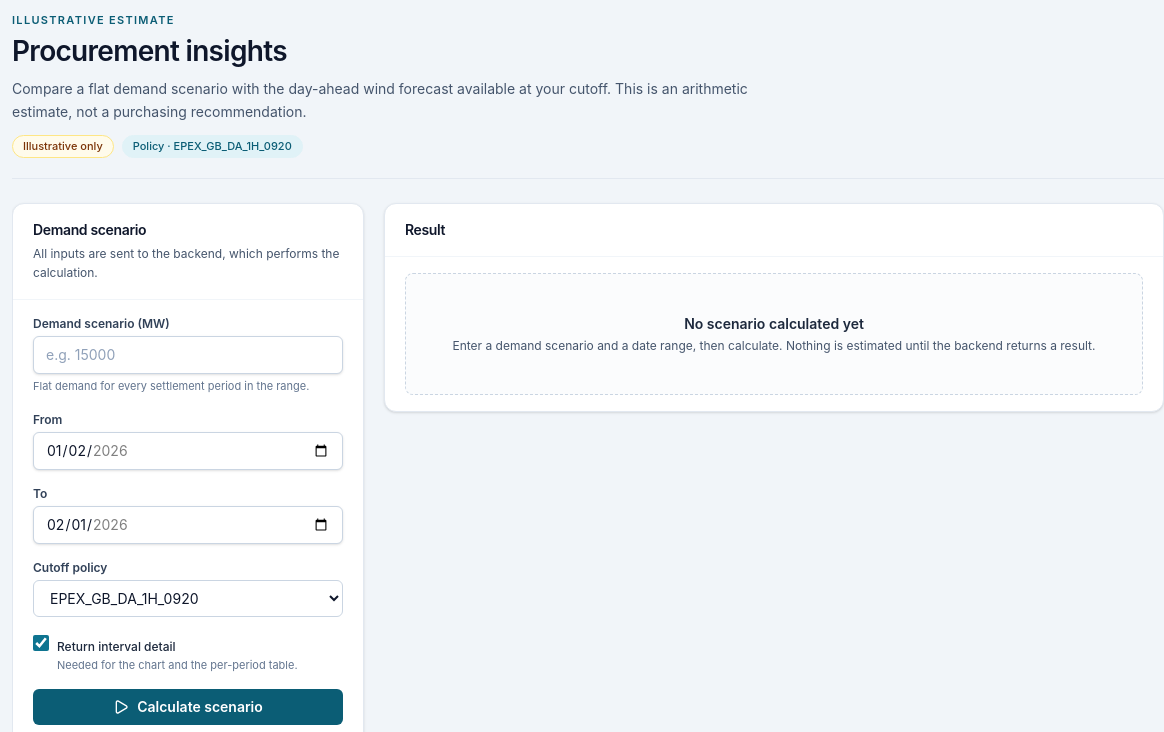
Scenario: ProcurementInsights › surfaces a backend error
Type "15000" into the number field labelled "Demand scenario (MW)" at (188, 355), box 33,336 -> 343,374
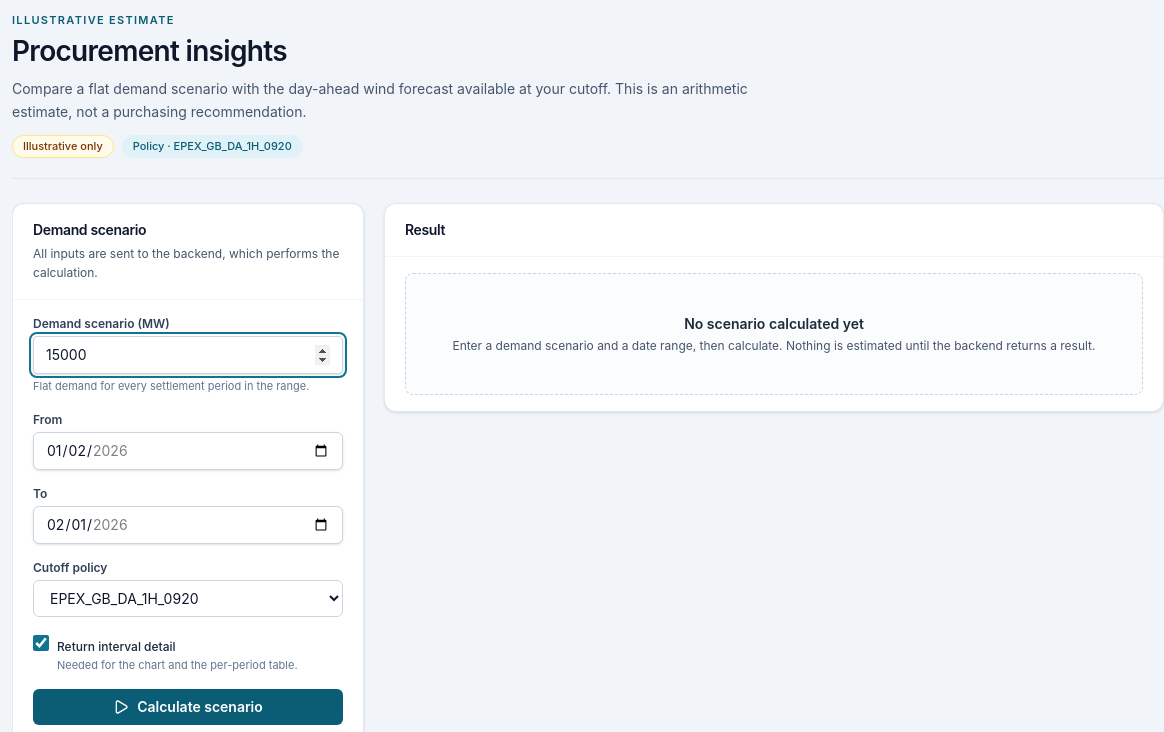
Click the button "Calculate scenario" at (188, 707), box 33,689 -> 343,725
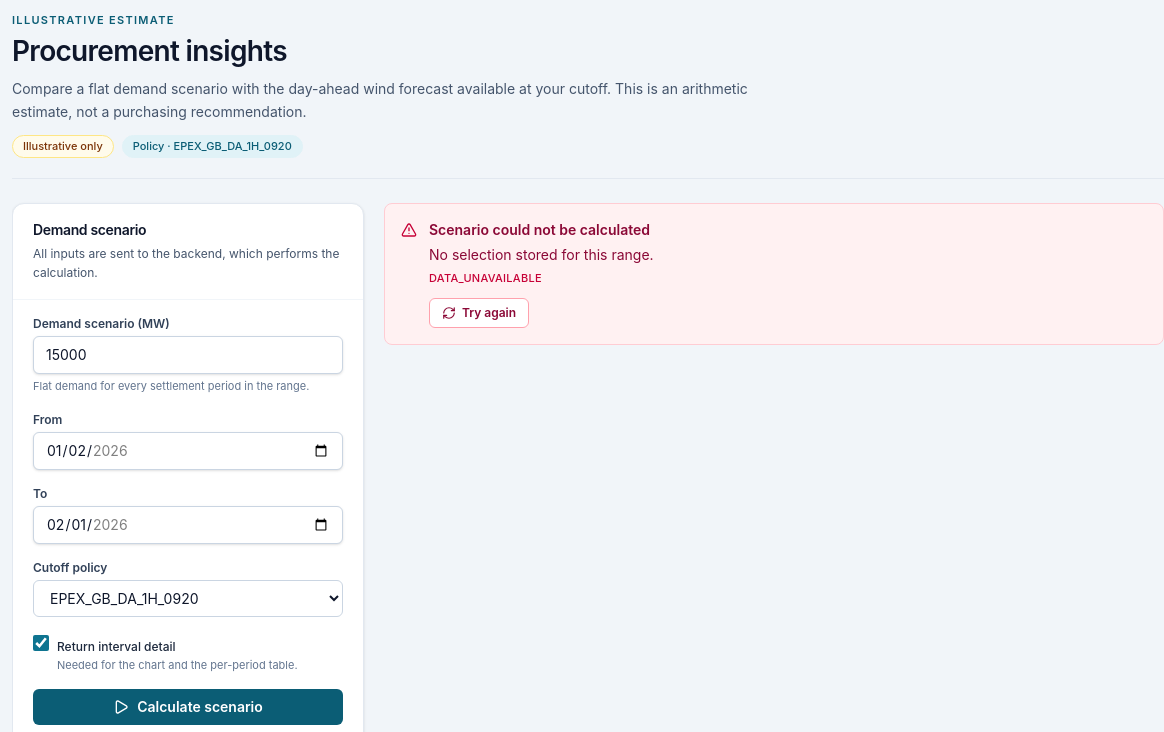
Expected: the text "Scenario could not be calculated" is shown, 429,221 -> 650,238
Expected: the text "No selection stored for this range." is shown, 429,246 -> 654,263
